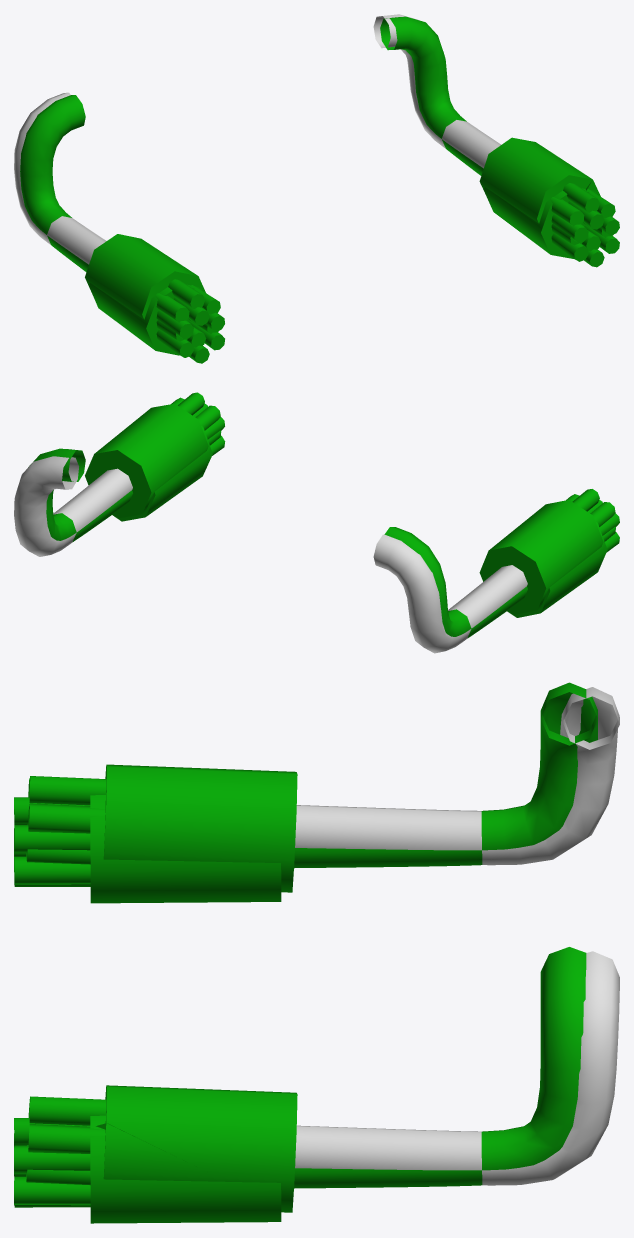
The model's file is EXPEnemy_0_3.fbx.
3 views of the same model, one above another, from view 1: azimuth 30°, elevation 25°; view 2: azimuth 150°, elevation 25°; view 3: azimuth 270°, elevation 25° (orthographic). The views are drawn at different scales.
Visible parts, largest first — view 1: cylinder, polymsh2, polySurface48, polySurface33, polySurface28, polySurface30, polySurface32, polySurface29; view 2: polySurface33, polySurface48, polySurface28, cylinder, polymsh2, polySurface32, polySurface30, polySurface29, polySurface34; view 3: polymsh2, cylinder, polySurface33, polySurface28, polySurface48, polySurface34, polySurface32, polySurface30, polySurface35, polySurface29, polySurface42, polySurface47 (+2 smaller).
Boxes of the visible parts, left/top/right/bottom form: cylinder: left=20, top=16, right=483, bottom=272; polymsh2: left=89, top=187, right=619, bottom=363; polySurface48: left=85, top=234, right=220, bottom=347; polySurface33: left=479, top=137, right=592, bottom=223; polySurface28: left=14, top=92, right=106, bottom=264; polySurface30: left=455, top=129, right=501, bottom=168; polySurface32: left=373, top=14, right=418, bottom=108; polySurface29: left=415, top=106, right=479, bottom=148; polySurface33: left=85, top=400, right=208, bottom=518; polySurface48: left=506, top=489, right=615, bottom=614; polySurface28: left=373, top=534, right=527, bottom=653; cylinder: left=28, top=448, right=527, bottom=638; polymsh2: left=112, top=403, right=619, bottom=617; polySurface32: left=14, top=456, right=78, bottom=553; polySurface30: left=65, top=473, right=119, bottom=522; polySurface29: left=33, top=503, right=89, bottom=556; polySurface34: left=479, top=522, right=523, bottom=581; polymsh2: left=14, top=795, right=281, bottom=1223; cylinder: left=294, top=682, right=597, bottom=1188; polySurface33: left=61, top=1085, right=297, bottom=1212; polySurface28: left=295, top=687, right=619, bottom=865; polySurface48: left=26, top=764, right=297, bottom=864; polySurface34: left=114, top=782, right=297, bottom=892; polySurface32: left=516, top=951, right=619, bottom=1178; polySurface30: left=307, top=1126, right=437, bottom=1170; polySurface35: left=103, top=1123, right=222, bottom=1181; polySurface29: left=437, top=1130, right=571, bottom=1185; polySurface42: left=28, top=1124, right=71, bottom=1153; polySurface47: left=29, top=1096, right=75, bottom=1125.
Bounding box in the file's own units: 6.94 × 2.09 × 4.74.
